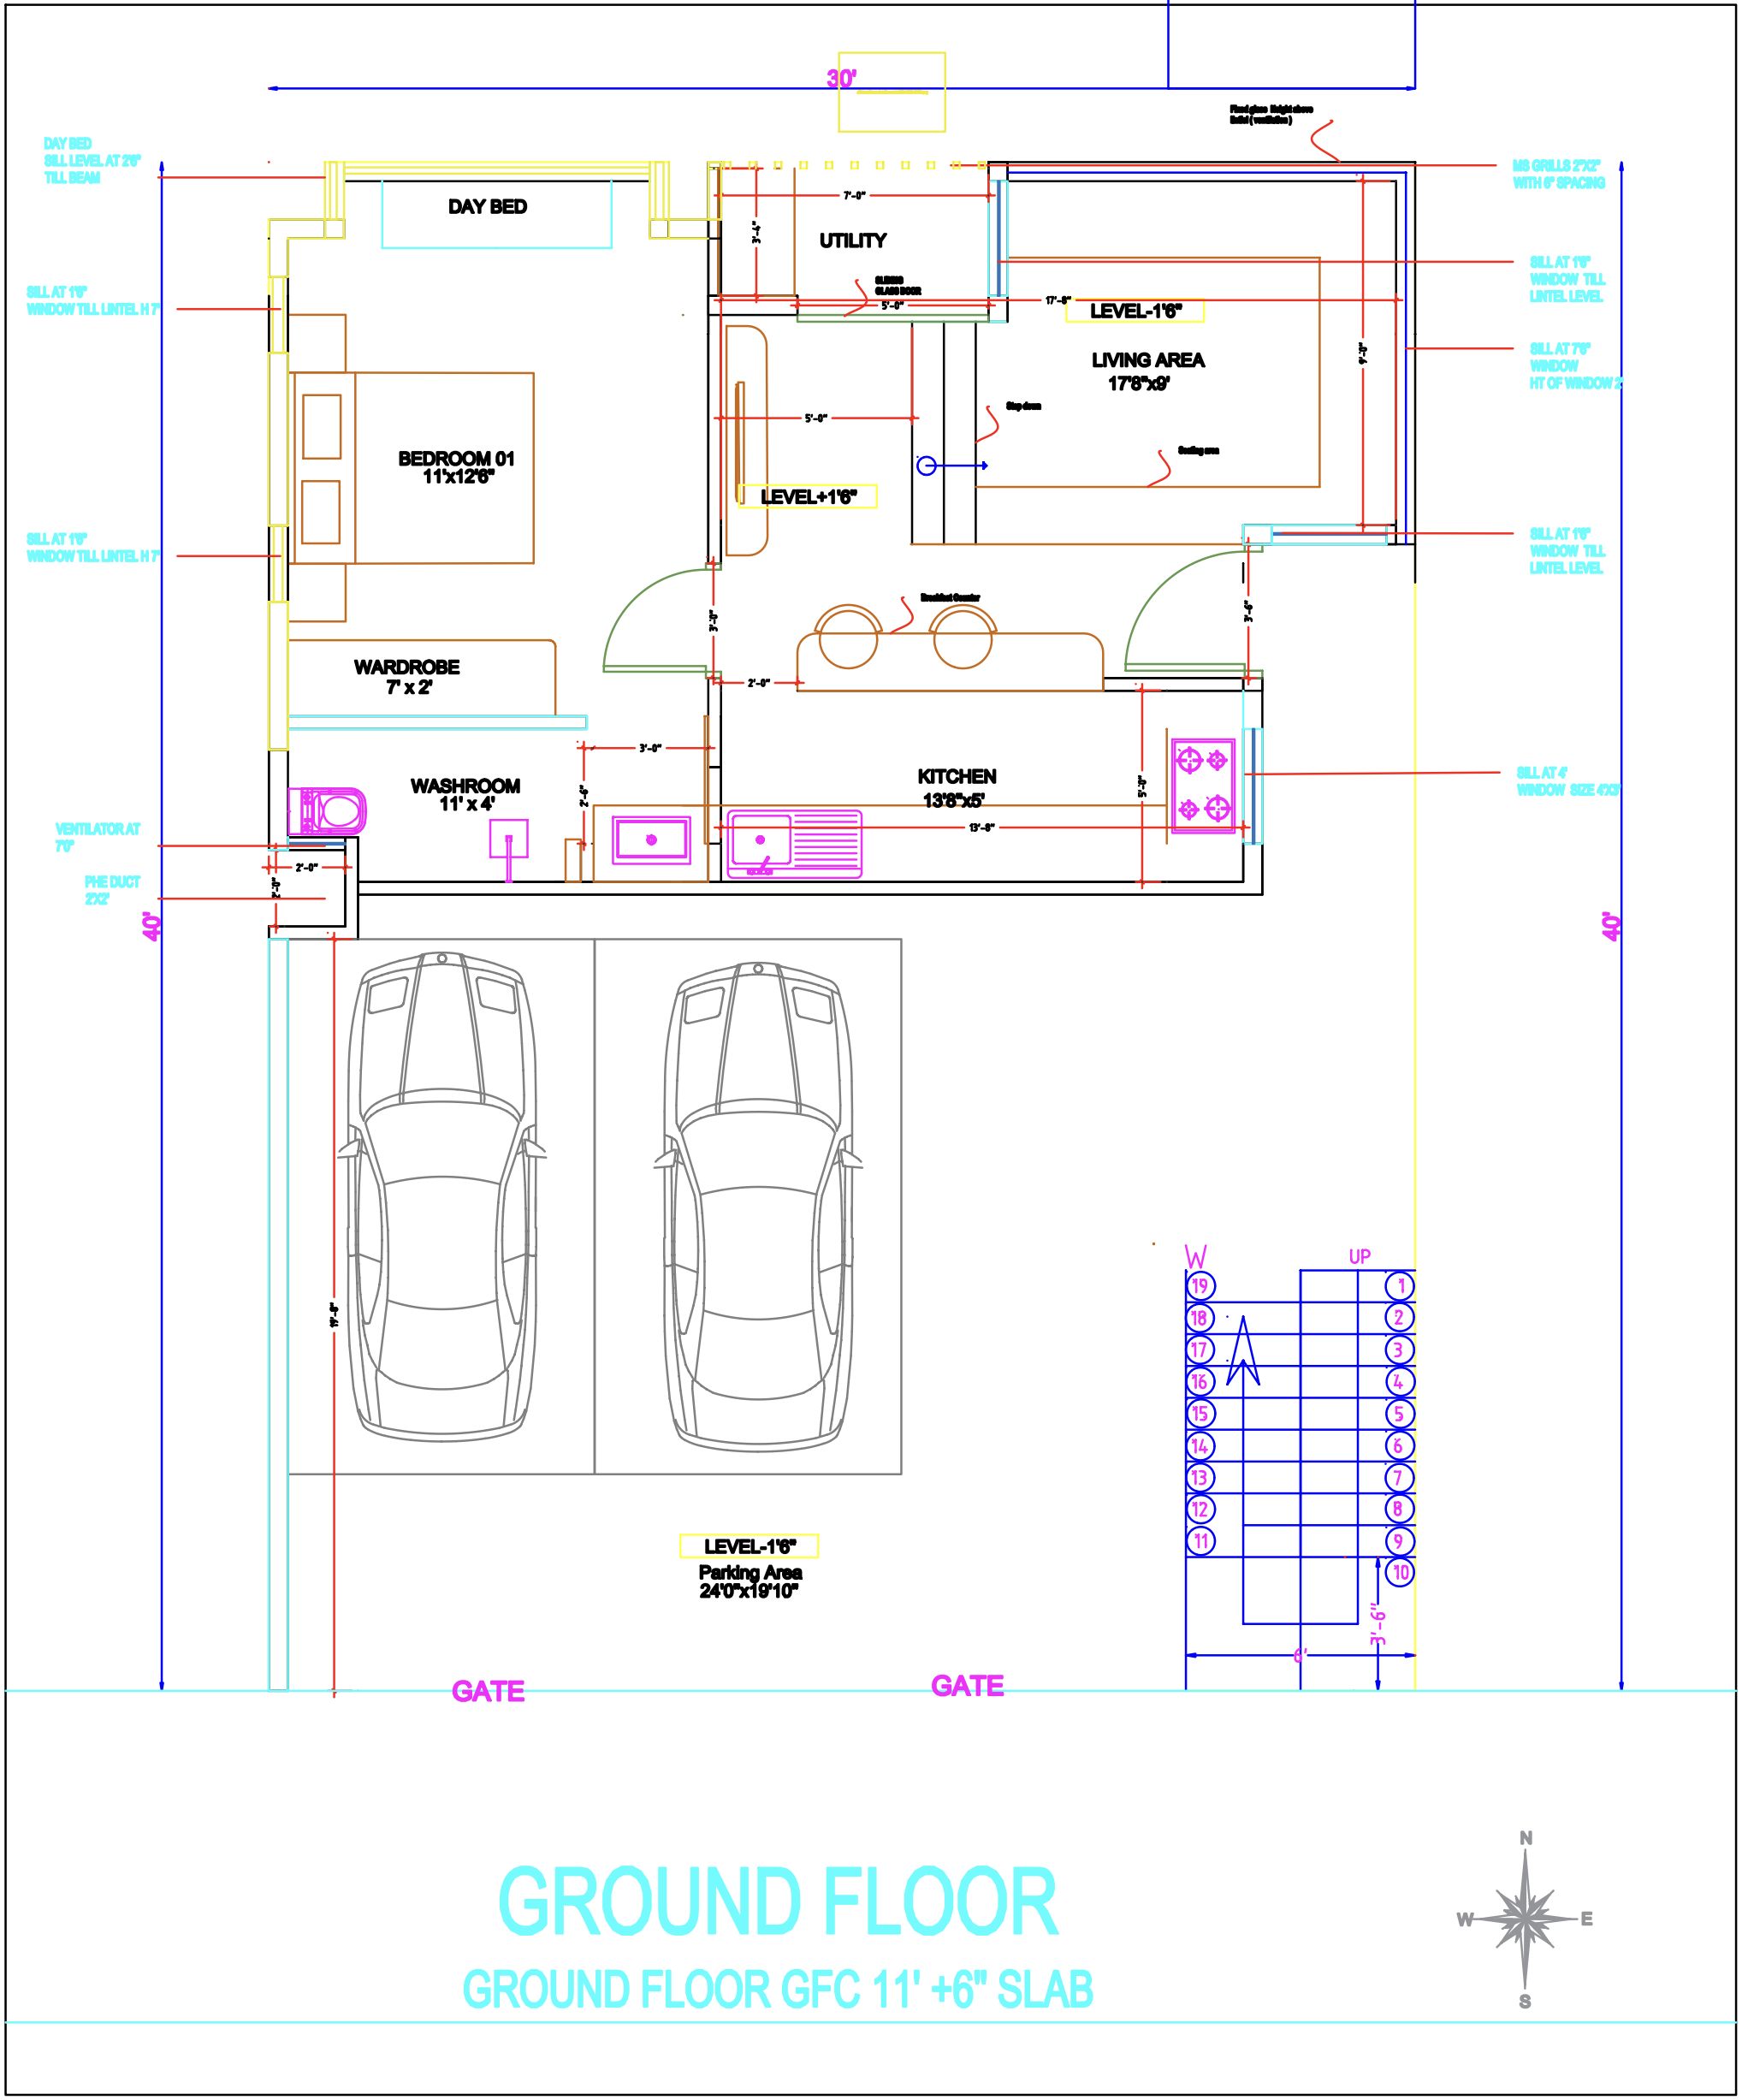door: (1125, 535, 1259, 677), (598, 562, 722, 684)
